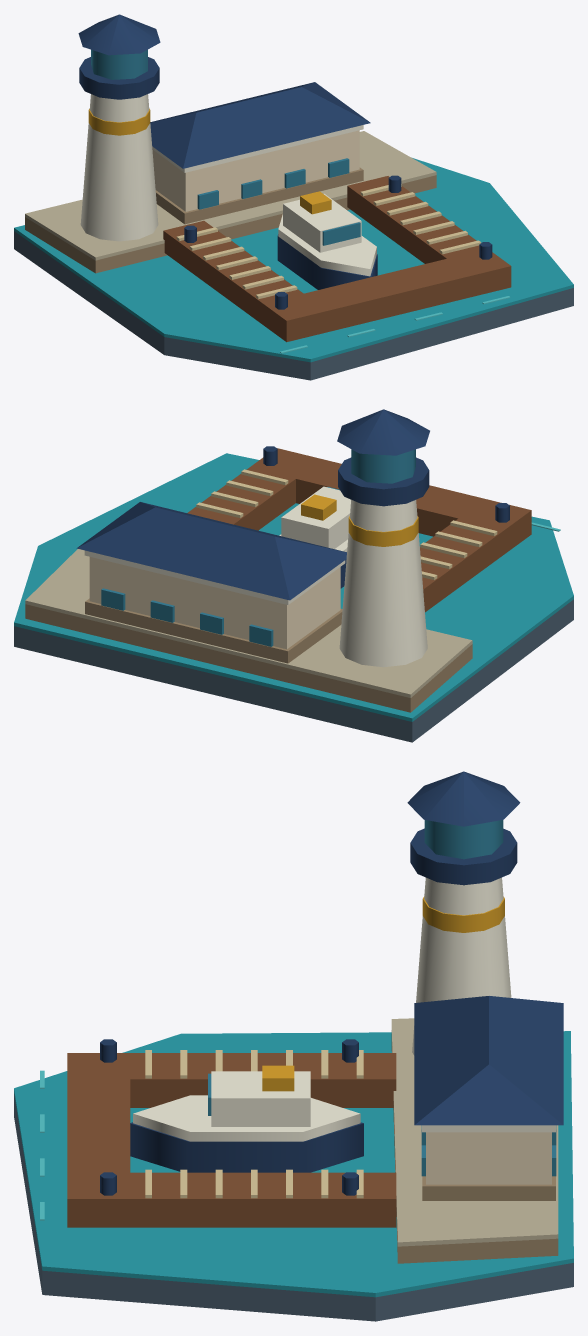
Rendered from port-lv1.glb.
The picture shows the model from 3 angles, top to bottom: view 1: azimuth 30°, elevation 25°; view 2: azimuth 150°, elevation 25°; view 3: azimuth 270°, elevation 25°; orthographic projection. The views are drawn at different scales.
Visible parts, largest first — view 1: foundation_water, pier_wood, foundation_slate, warehouse_roof_naval, lighthouse_white, quay_paving, warehouse_cream, vessel_white, quay_stoneDark, pier_planks_sand, warehouse_stoneDark, lighthouse_roof_naval (+9 smaller); view 2: foundation_water, warehouse_roof_naval, pier_wood, foundation_slate, lighthouse_white, warehouse_cream, quay_paving, quay_stoneDark, warehouse_stoneDark, lighthouse_roof_naval, vessel_white, lantern_balcony_naval (+7 smaller); view 3: foundation_water, pier_wood, warehouse_roof_naval, foundation_slate, quay_paving, vessel_white, lighthouse_white, vessel_naval, warehouse_cream, lighthouse_roof_naval, lantern_balcony_naval, quay_stoneDark (+7 smaller).
Part boxes in pixels (x1,y1,x2,y2): foundation_water: [14, 157, 573, 362]; pier_wood: [163, 176, 511, 342]; foundation_slate: [14, 231, 573, 380]; warehouse_roof_naval: [150, 82, 370, 168]; lighthouse_white: [80, 94, 158, 241]; quay_paving: [25, 131, 436, 260]; warehouse_cream: [152, 130, 359, 211]; vessel_white: [278, 193, 376, 276]; quay_stoneDark: [25, 175, 436, 273]; pier_planks_sand: [176, 184, 481, 299]; warehouse_stoneDark: [155, 167, 363, 224]; lighthouse_roof_naval: [78, 14, 160, 55]; foundation_water: [14, 453, 573, 721]; warehouse_roof_naval: [76, 502, 346, 600]; pier_wood: [187, 448, 531, 612]; foundation_slate: [14, 599, 573, 742]; lighthouse_white: [339, 500, 427, 667]; warehouse_cream: [89, 557, 340, 649]; quay_paving: [25, 549, 472, 697]; quay_stoneDark: [25, 604, 472, 712]; warehouse_stoneDark: [85, 598, 342, 663]; lighthouse_roof_naval: [337, 409, 429, 455]; vessel_white: [279, 486, 350, 551]; lantern_balcony_naval: [338, 457, 429, 506]; foundation_water: [14, 1031, 573, 1297]; pier_wood: [67, 1053, 396, 1227]; warehouse_roof_naval: [414, 996, 563, 1125]; foundation_slate: [14, 1094, 573, 1321]; quay_paving: [391, 1018, 558, 1246]; vessel_white: [133, 1071, 360, 1141]; lighthouse_white: [412, 877, 511, 1055]; vessel_naval: [130, 1122, 363, 1172]; warehouse_cream: [426, 1132, 551, 1184]; lighthouse_roof_naval: [407, 771, 520, 826]; lantern_balcony_naval: [410, 828, 517, 885]; quay_stoneDark: [391, 1034, 558, 1263].
Bounding box in the file's own units: 1 × 0.5888 × 0.9036.
